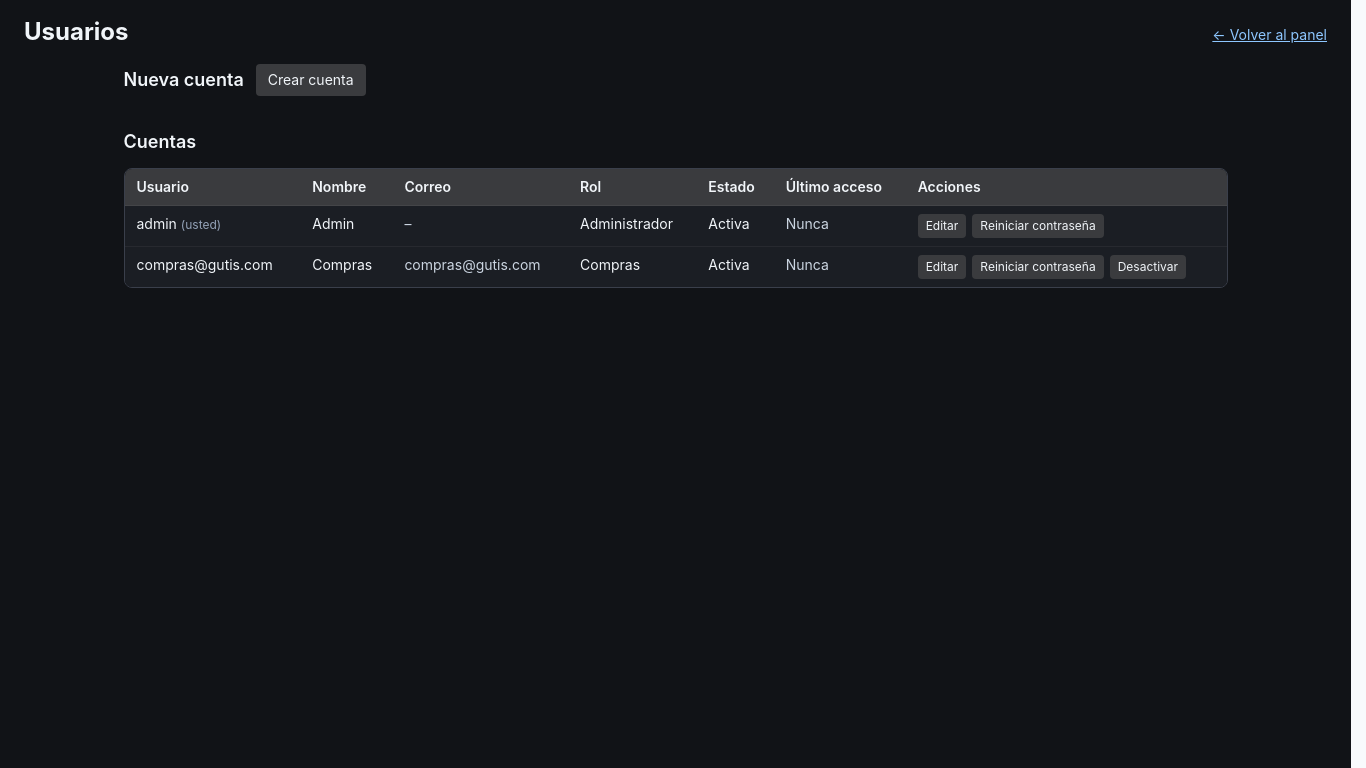
Test: Usuarios (US-62) › la propia cuenta no se puede desactivar ni quitarse el rol
Click the button "Editar" in the row of "(usted)". click: (942, 226)
box: [918,214,966,238]
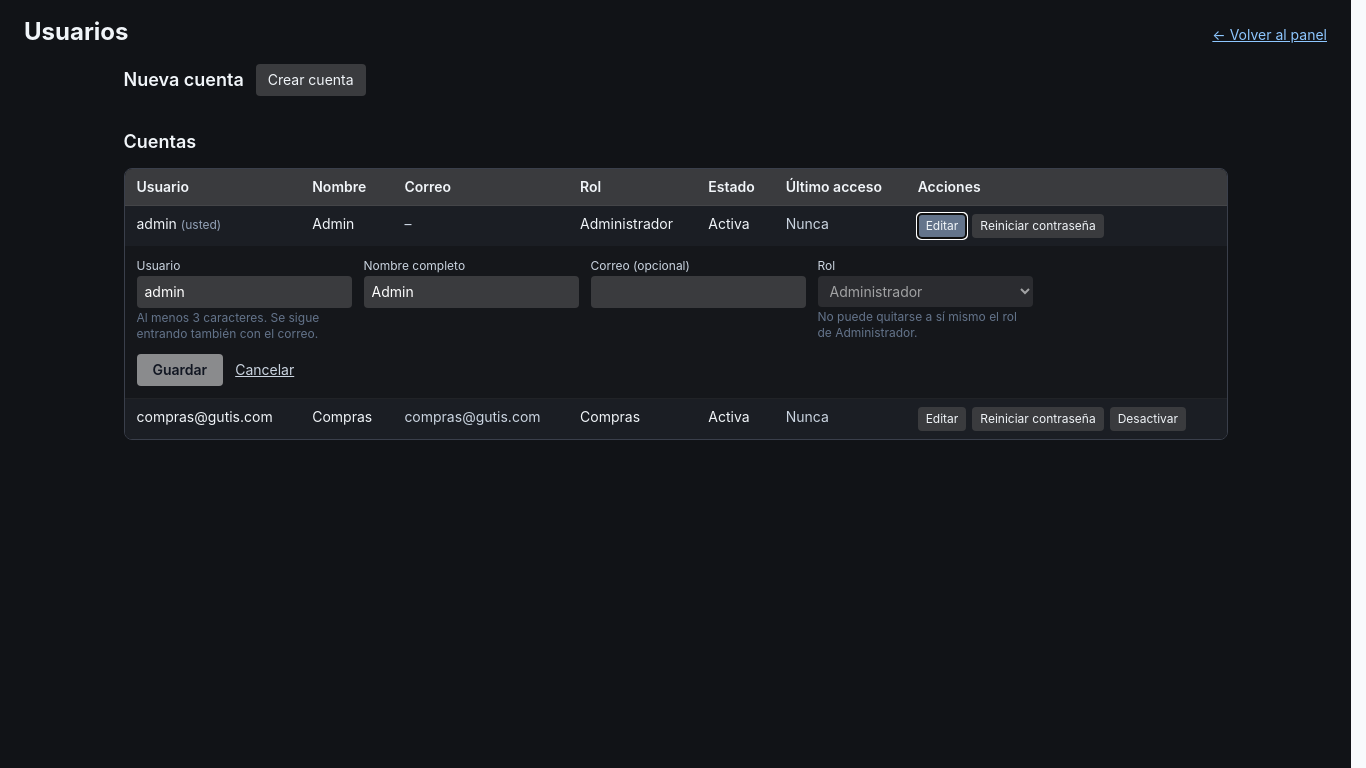
Now the dropdown is disabled, box [818,276,1032,307]
Now the text "No puede quitarse a sí mismo el rol de Administrador." is shown, box [818,309,1032,341]
